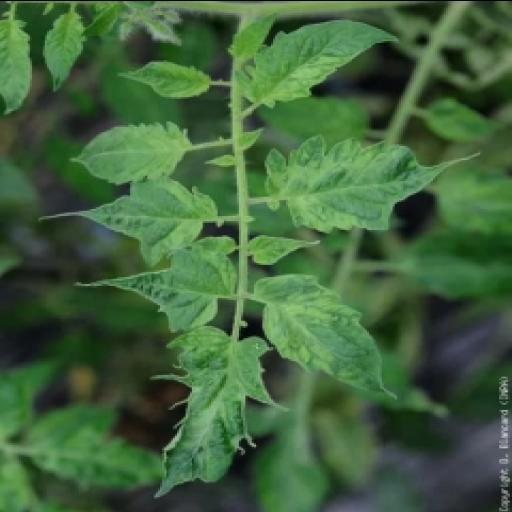disease_tomato: (152, 324, 286, 496), (248, 270, 408, 398), (260, 130, 436, 234), (235, 16, 401, 109)
